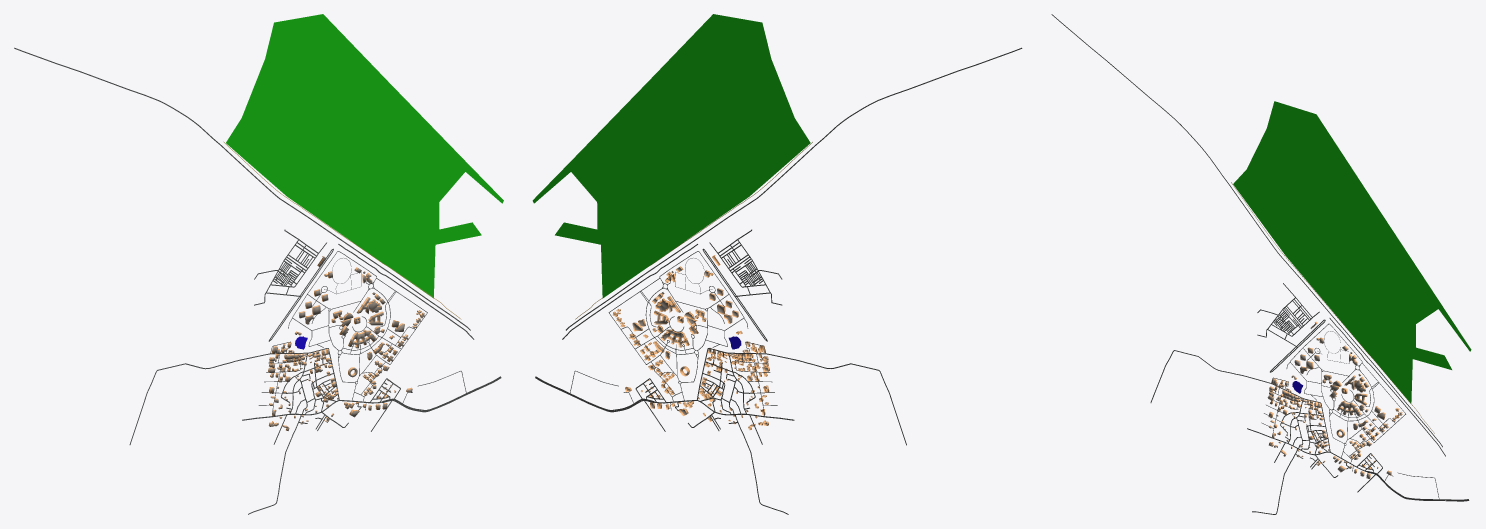
The model's file is dtu.gltf.
3 renders of one model, left to right at view 1: azimuth 30°, elevation 25°; view 2: azimuth 150°, elevation 25°; view 3: azimuth 330°, elevation 25°, orthographic. The views are drawn at different scales.
Visible parts, largest first — view 1: Node5, Node1, Node4, Node3, Node6, Node2; view 2: Node5, Node1, Node4, Node3, Node6, Node2; view 3: Node5, Node1, Node4, Node3, Node6.
Boxes of the visible parts, x1=… form: Node5: x1=226, y1=14, x2=503, y2=298; Node1: x1=268, y1=256, x2=424, y2=430; Node4: x1=14, y1=47, x2=470, y2=514; Node3: x1=258, y1=251, x2=466, y2=415; Node6: x1=268, y1=229, x2=474, y2=341; Node2: x1=242, y1=376, x2=501, y2=420; Node5: x1=532, y1=14, x2=810, y2=298; Node1: x1=613, y1=255, x2=769, y2=430; Node4: x1=566, y1=47, x2=1022, y2=514; Node3: x1=569, y1=251, x2=777, y2=415; Node6: x1=562, y1=229, x2=767, y2=341; Node2: x1=535, y1=376, x2=794, y2=420; Node5: x1=1233, y1=101, x2=1471, y2=403; Node1: x1=1268, y1=321, x2=1402, y2=478; Node4: x1=1051, y1=14, x2=1442, y2=514; Node3: x1=1261, y1=323, x2=1439, y2=498; Node6: x1=1270, y1=283, x2=1445, y2=456.
Bounding box in the file's own units: 3672 × 3755 × 20.98.
